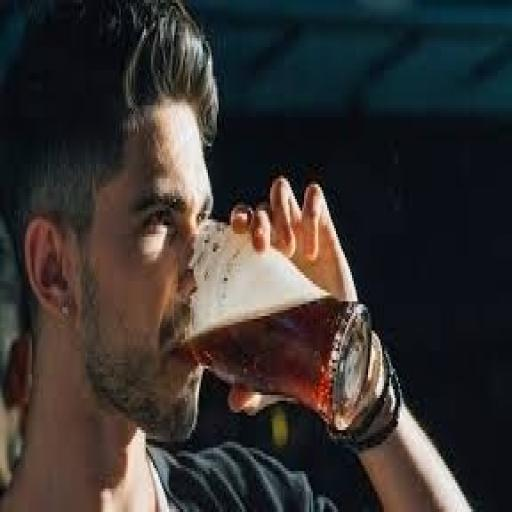drinking: (166, 214, 374, 433)
